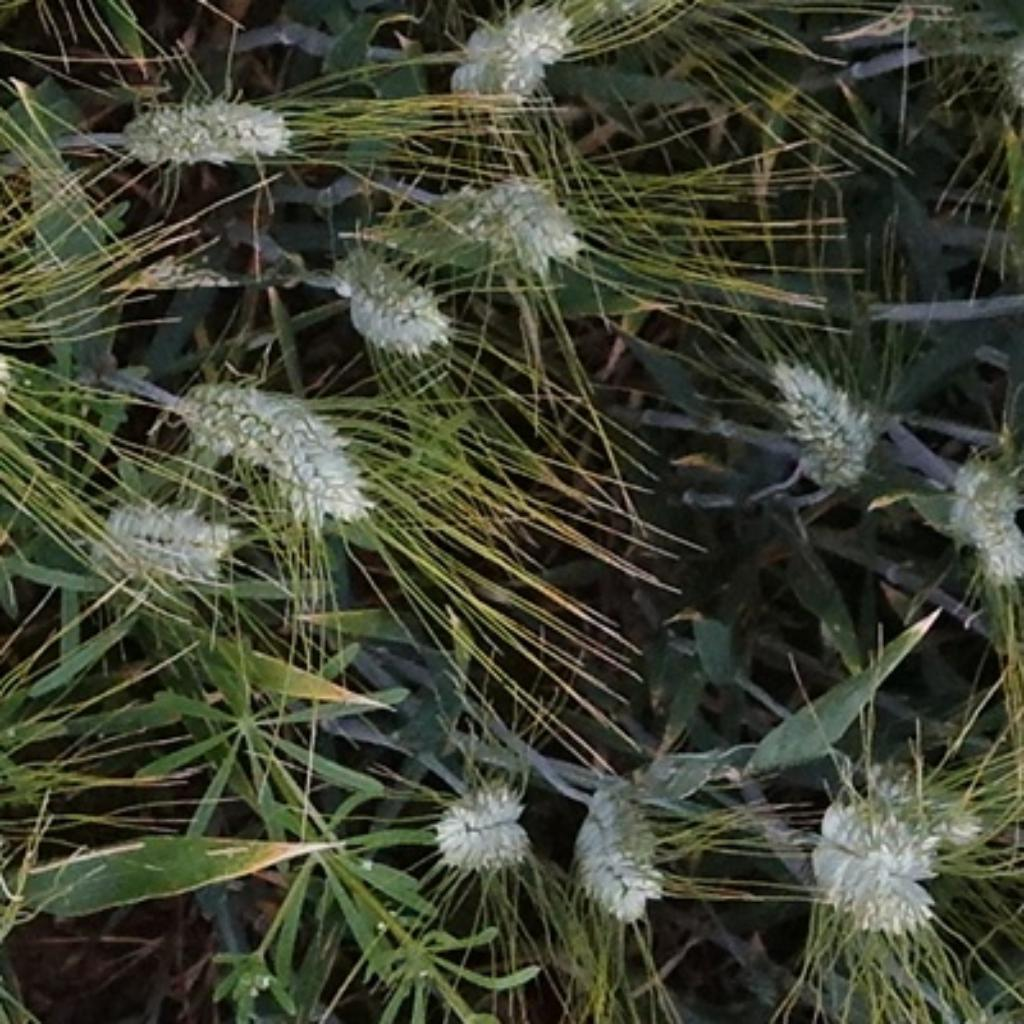0-0: (798, 805, 954, 933), (176, 363, 325, 497), (762, 337, 893, 483), (441, 162, 593, 284), (105, 89, 307, 179), (325, 248, 456, 373), (854, 740, 990, 859), (81, 481, 232, 586), (563, 774, 668, 925), (435, 0, 578, 102), (931, 432, 1021, 586), (422, 762, 540, 875), (282, 422, 385, 545)
